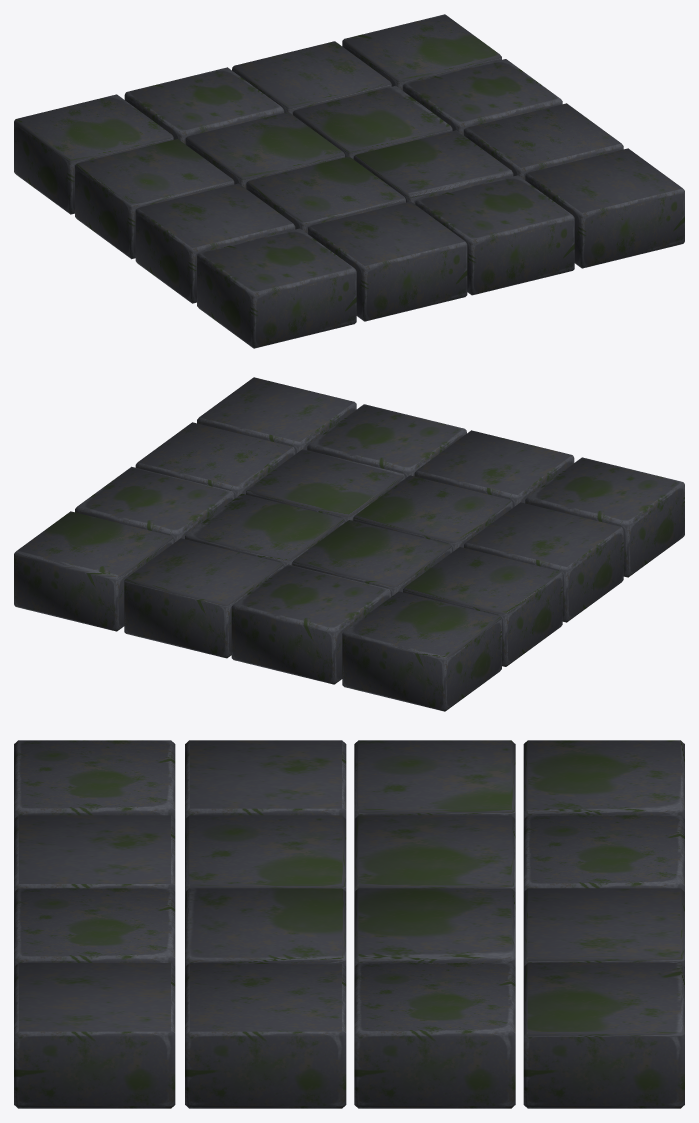
The model's file is Platform.fbx.
3 renders of one model, top to bottom at view 1: azimuth 30°, elevation 25°; view 2: azimuth 150°, elevation 25°; view 3: azimuth 270°, elevation 25°, orthographic. The views are drawn at different scales.
Visible parts, largest first — view 1: platform; view 2: platform; view 3: platform.
Boxes of the visible parts, box(x1,y1,x2,y2) form: platform: box(14, 14, 684, 348); platform: box(14, 377, 684, 711); platform: box(14, 740, 684, 1108).
Size of the model in its own units: 1.71 by 0.2093 by 1.65.
